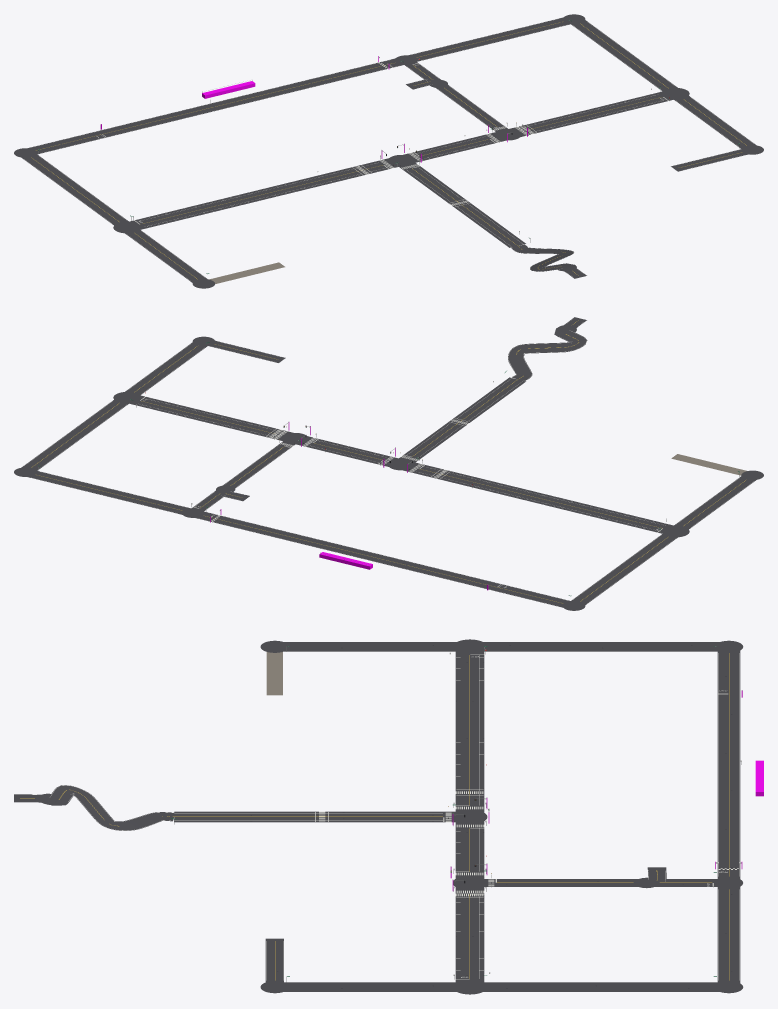
The model's file is roads.glb.
The picture shows the model from 3 angles, top to bottom: view 1: azimuth 30°, elevation 25°; view 2: azimuth 150°, elevation 25°; view 3: azimuth 270°, elevation 25°; orthographic projection. The views are drawn at different scales.
Visible parts, largest first — view 1: Road_Asphalt, Paint_White, Paint_Yellow, Road_Gravel; view 2: Road_Asphalt, Paint_White, Paint_Yellow; view 3: Road_Asphalt, Paint_White, Paint_Yellow, Road_Gravel.
Boxes of the visible parts, box(x1,y1,x2,y2) form: Road_Asphalt: box(14, 14, 763, 288); Paint_White: box(24, 19, 753, 279); Paint_Yellow: box(31, 22, 746, 279); Road_Gravel: box(209, 262, 284, 283); Road_Asphalt: box(14, 317, 763, 610); Paint_White: box(24, 321, 753, 606); Paint_Yellow: box(31, 320, 745, 603); Road_Asphalt: box(14, 639, 743, 994); Paint_White: box(32, 653, 739, 980); Paint_Yellow: box(20, 653, 729, 980); Road_Gravel: box(266, 652, 282, 695).
Bounding box in the file's own units: 409 × 10.11 × 365.
